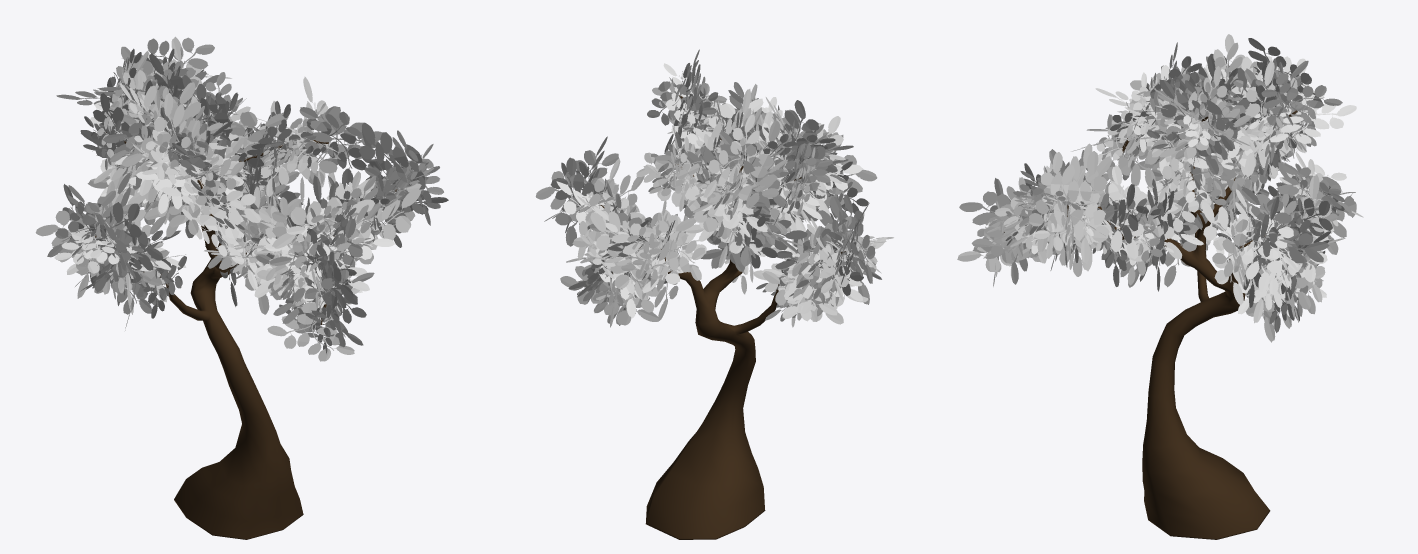
The model's file is Ped.fbx.
3 views of the same model, side by side, from view 1: azimuth 30°, elevation 25°; view 2: azimuth 150°, elevation 25°; view 3: azimuth 270°, elevation 25° (orthographic). The views are drawn at different scales.
Parts seen in each view (by area): view 1: Circle, Circle|Plane|Dupli|176, Circle|Plane|Dupli|222, Circle|Plane|Dupli|378, Circle|Plane|Dupli|441, Circle|Plane|Dupli|221, Circle|Plane|Dupli|379, Circle|Plane|Dupli|193, Circle|Plane|Dupli|488, Circle|Plane|Dupli|333, Circle|Plane|Dupli|377, Circle|Plane|Dupli|486 (+26 smaller); view 2: Circle, Circle|Plane|Dupli|132, Circle|Plane|Dupli|359, Circle|Plane|Dupli|125, Circle|Plane|Dupli|350, Circle|Plane|Dupli|377, Circle|Plane|Dupli|371, Circle|Plane|Dupli|347, Circle|Plane|Dupli|71, Circle|Plane|Dupli|131, Circle|Plane|Dupli|444, Circle|Plane|Dupli|342 (+27 smaller); view 3: Circle, Circle|Plane|Dupli|443, Circle|Plane|Dupli|441, Circle|Plane|Dupli|378, Circle|Plane|Dupli|445, Circle|Plane|Dupli|261, Circle|Plane|Dupli|247, Circle|Plane|Dupli|308, Circle|Plane|Dupli|374, Circle|Plane|Dupli|372, Circle|Plane|Dupli|254, Circle|Plane|Dupli|56 (+20 smaller).
Boxes of the visible parts, box(x1,y1,x2,y2) form: Circle: box(95, 132, 396, 539); Circle|Plane|Dupli|176: box(272, 178, 375, 248); Circle|Plane|Dupli|222: box(267, 300, 354, 361); Circle|Plane|Dupli|378: box(306, 111, 366, 184); Circle|Plane|Dupli|441: box(359, 122, 428, 213); Circle|Plane|Dupli|221: box(273, 269, 374, 333); Circle|Plane|Dupli|379: box(287, 112, 382, 184); Circle|Plane|Dupli|193: box(359, 188, 421, 264); Circle|Plane|Dupli|488: box(85, 202, 141, 292); Circle|Plane|Dupli|333: box(193, 170, 260, 225); Circle|Plane|Dupli|377: box(299, 106, 378, 165); Circle|Plane|Dupli|486: box(47, 190, 122, 257); Circle: box(600, 95, 845, 539); Circle|Plane|Dupli|132: box(703, 114, 764, 197); Circle|Plane|Dupli|359: box(590, 211, 648, 299); Circle|Plane|Dupli|125: box(697, 149, 778, 206); Circle|Plane|Dupli|350: box(611, 215, 704, 270); Circle|Plane|Dupli|377: box(535, 150, 618, 221); Circle|Plane|Dupli|371: box(550, 157, 606, 246); Circle|Plane|Dupli|347: box(643, 210, 705, 280); Circle|Plane|Dupli|71: box(560, 266, 658, 325); Circle|Plane|Dupli|131: box(684, 144, 770, 214); Circle|Plane|Dupli|444: box(647, 77, 716, 125); Circle|Plane|Dupli|342: box(642, 224, 714, 293); Circle: box(1004, 110, 1297, 539); Circle|Plane|Dupli|443: box(1029, 152, 1094, 252); Circle|Plane|Dupli|441: box(1046, 143, 1101, 263); Circle|Plane|Dupli|378: box(1202, 202, 1256, 305); Circle|Plane|Dupli|445: box(1040, 151, 1109, 271); Circle|Plane|Dupli|261: box(1269, 93, 1356, 143); Circle|Plane|Dupli|247: box(1239, 60, 1292, 176); Circle|Plane|Dupli|308: box(1159, 79, 1237, 174); Circle|Plane|Dupli|374: box(1241, 187, 1323, 263); Circle|Plane|Dupli|372: box(1228, 206, 1293, 291); Circle|Plane|Dupli|254: box(1261, 83, 1342, 129); Circle|Plane|Dupli|56: box(1094, 165, 1144, 259).
Bounding box in the file's own units: 400 × 468 × 420.
